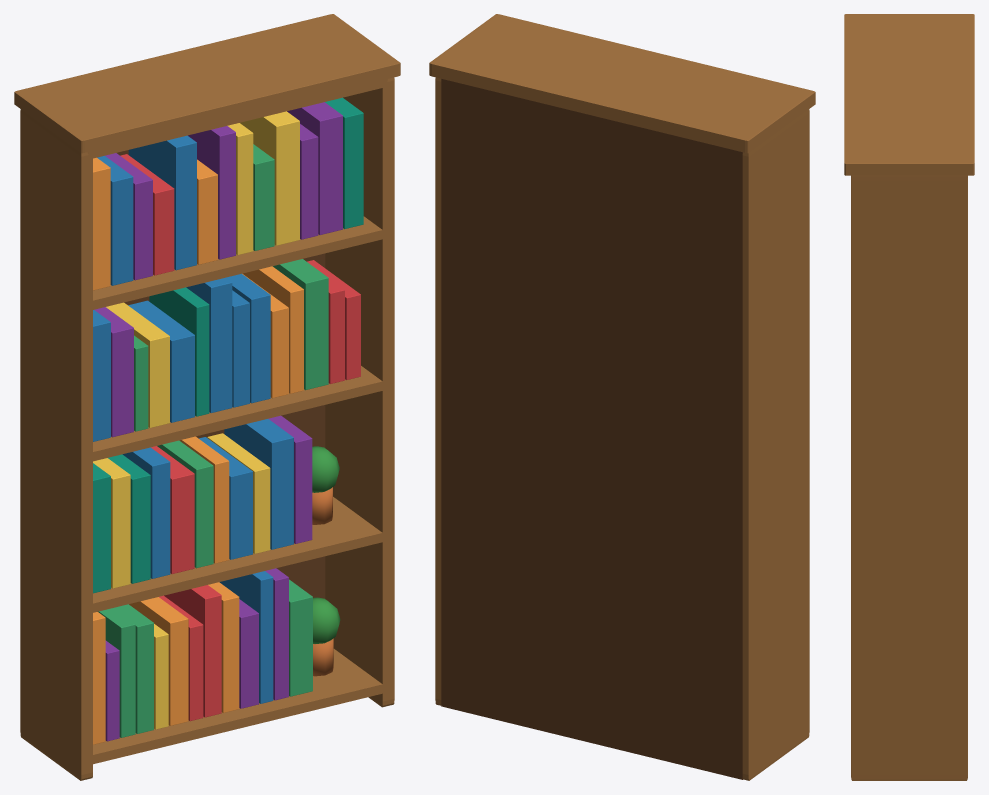
File: bookshelf.glb
The picture shows the model from 3 angles, left to right: view 1: azimuth 30°, elevation 25°; view 2: azimuth 150°, elevation 25°; view 3: azimuth 270°, elevation 25°; orthographic projection. The views are drawn at different scales.
Visible parts, largest first — view 1: bookshelf; view 2: bookshelf; view 3: bookshelf.
Part boxes in pixels (box(x1,y1,x2,y2)): bookshelf: box(14, 14, 400, 780); bookshelf: box(429, 14, 815, 780); bookshelf: box(844, 14, 974, 780).
Size of the model in its own units: 1.06 by 2.04 by 0.39.
Materials: 3 (3 with a texture image).
